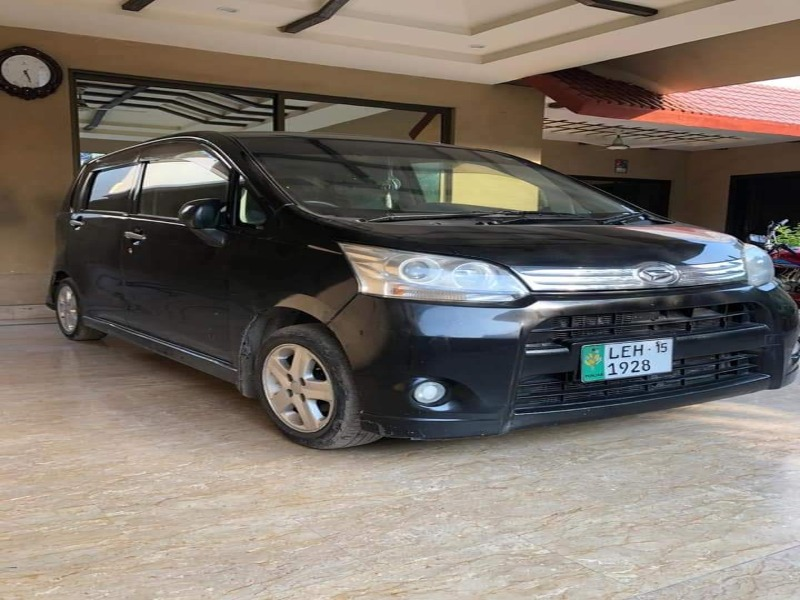License Plate: (578, 339, 678, 384)
